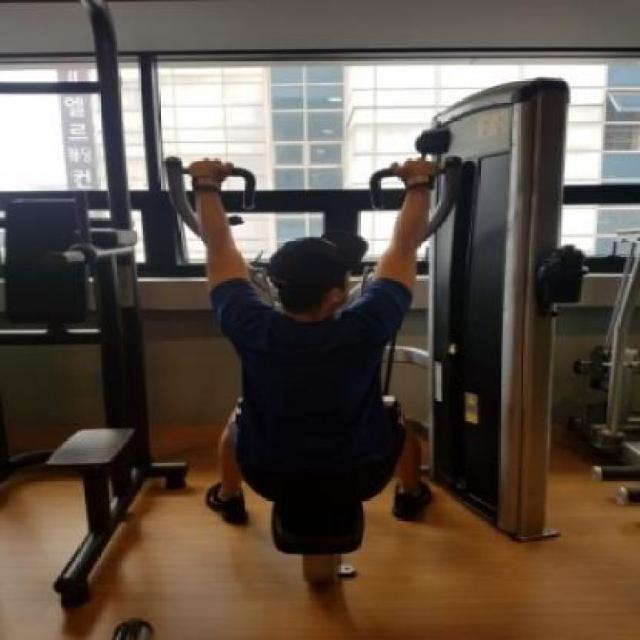Lat Pull Down: (96, 54, 578, 615)
